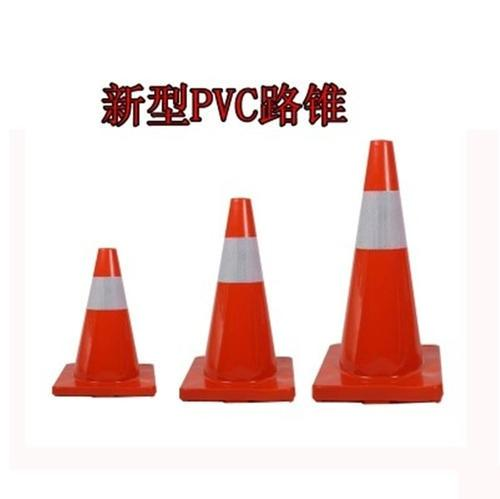cone_barrel: (329, 148, 435, 395), (193, 198, 288, 398), (61, 244, 151, 395)
